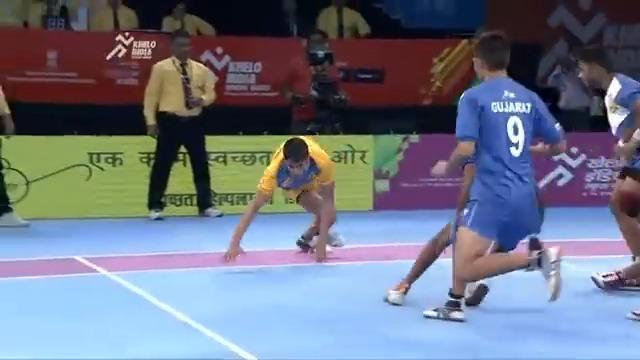Player: (421, 30, 565, 322), (384, 154, 560, 308), (572, 44, 639, 293)
Raider: (223, 135, 344, 263)
referee: (141, 28, 224, 220)
